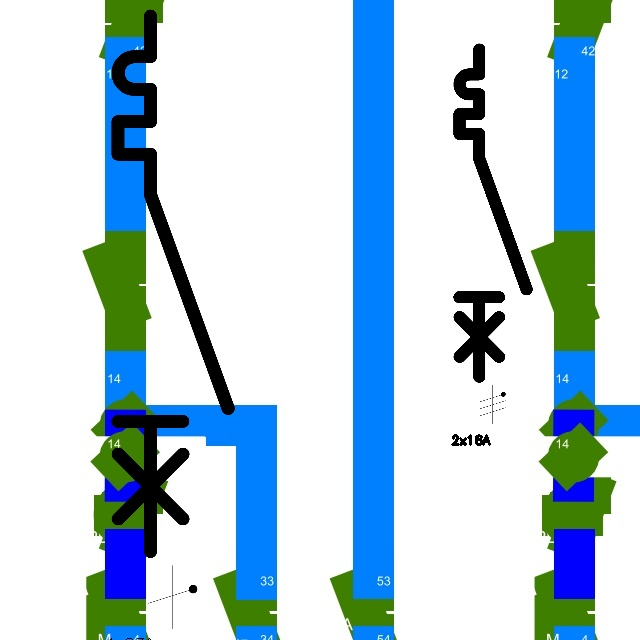interruptor_termomagnetico: (104, 2, 242, 565), (451, 41, 535, 385)
